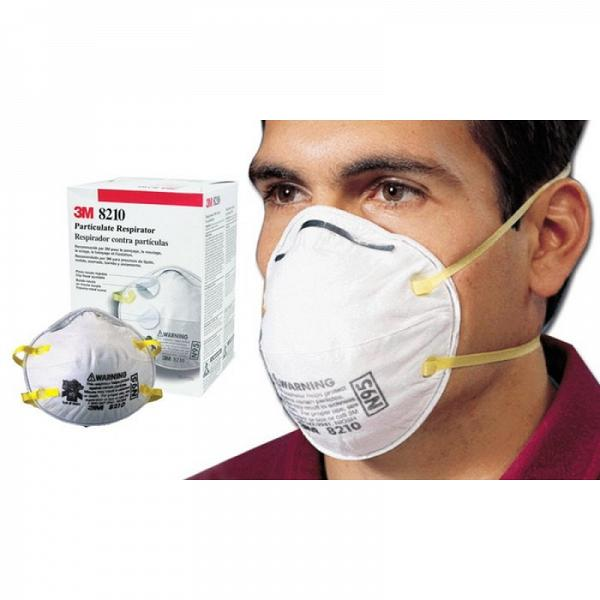Mask: (251, 120, 574, 452)
